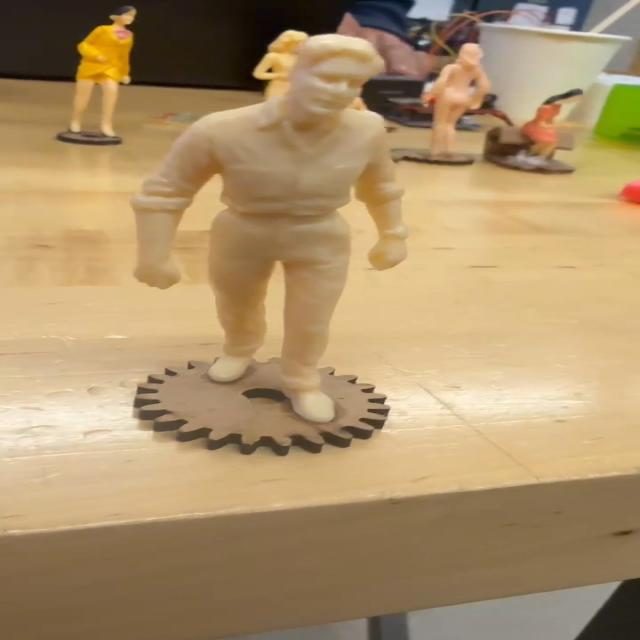Unauthorized: (115, 10, 452, 430)
